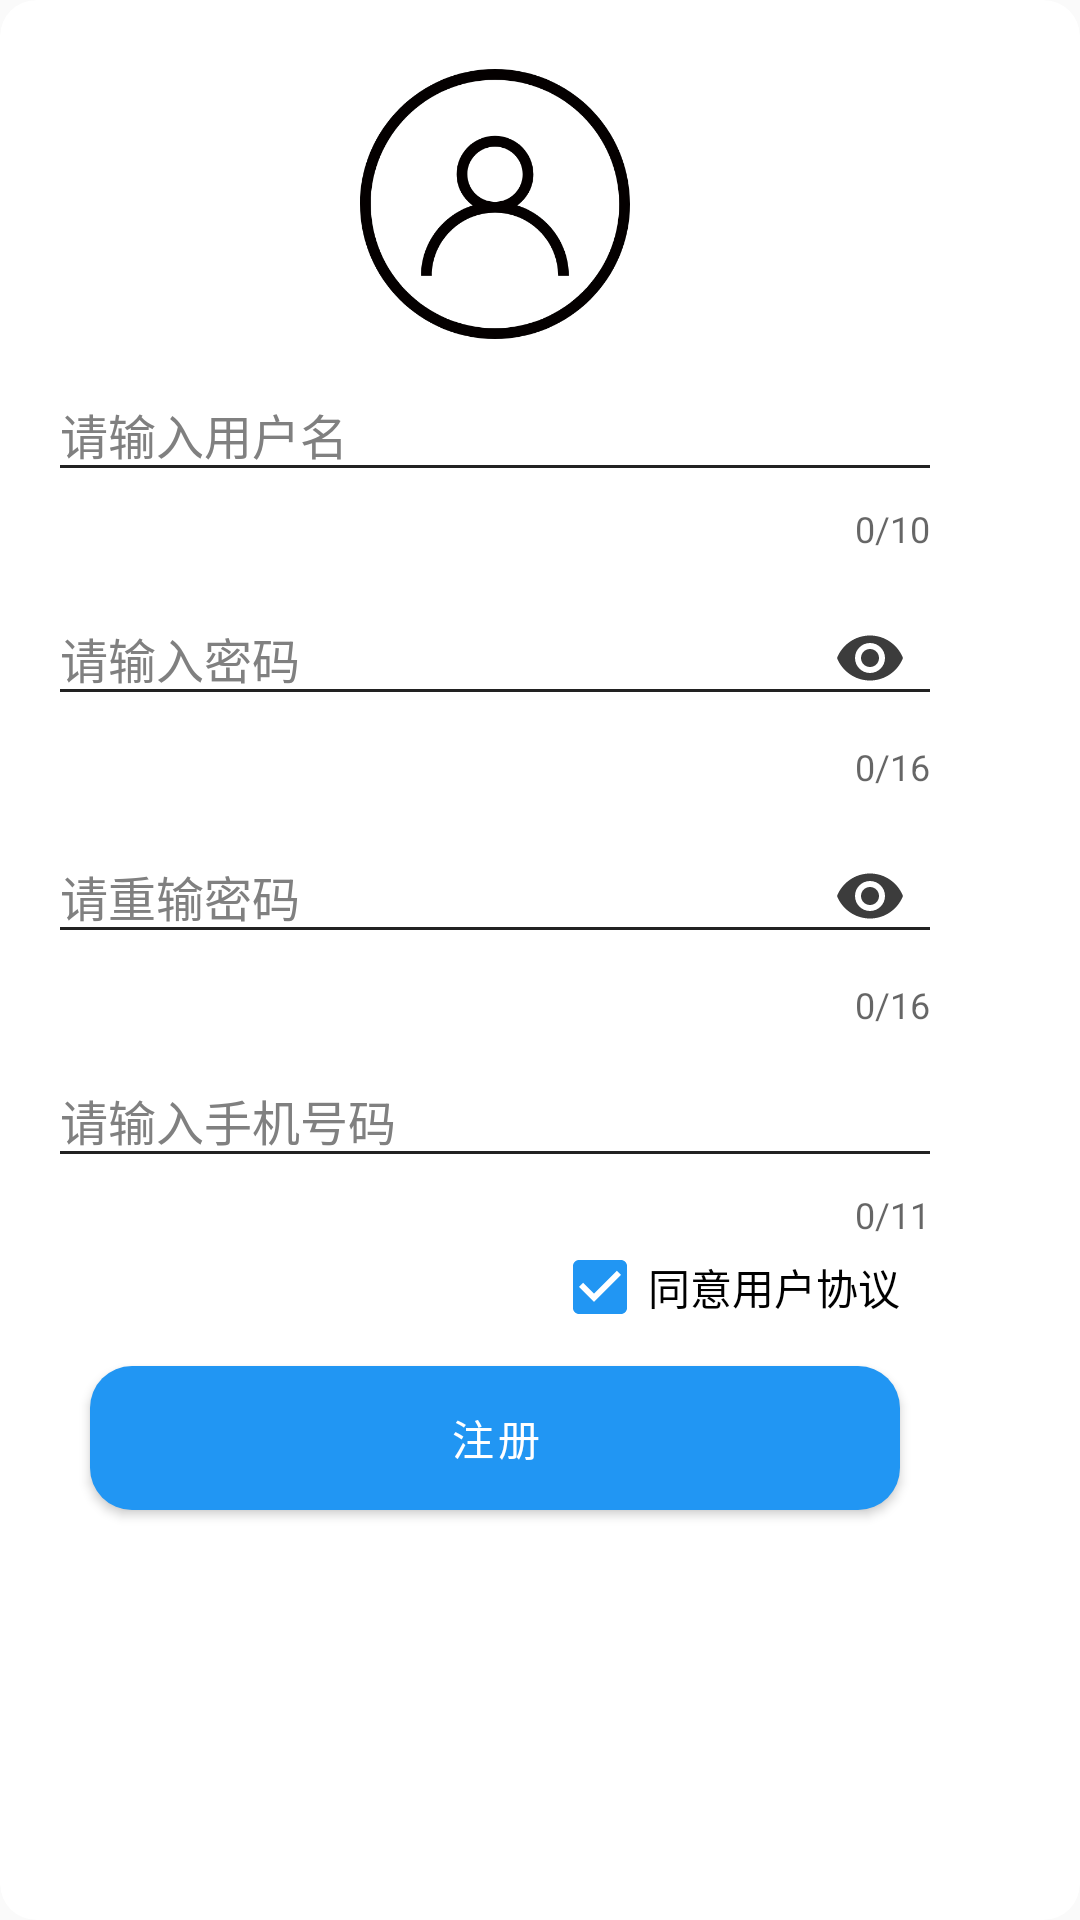

Where icons sit on this 1080w x 1920h app screen, as (x1, y1, x2, y2):
account: (360, 69, 630, 339)
